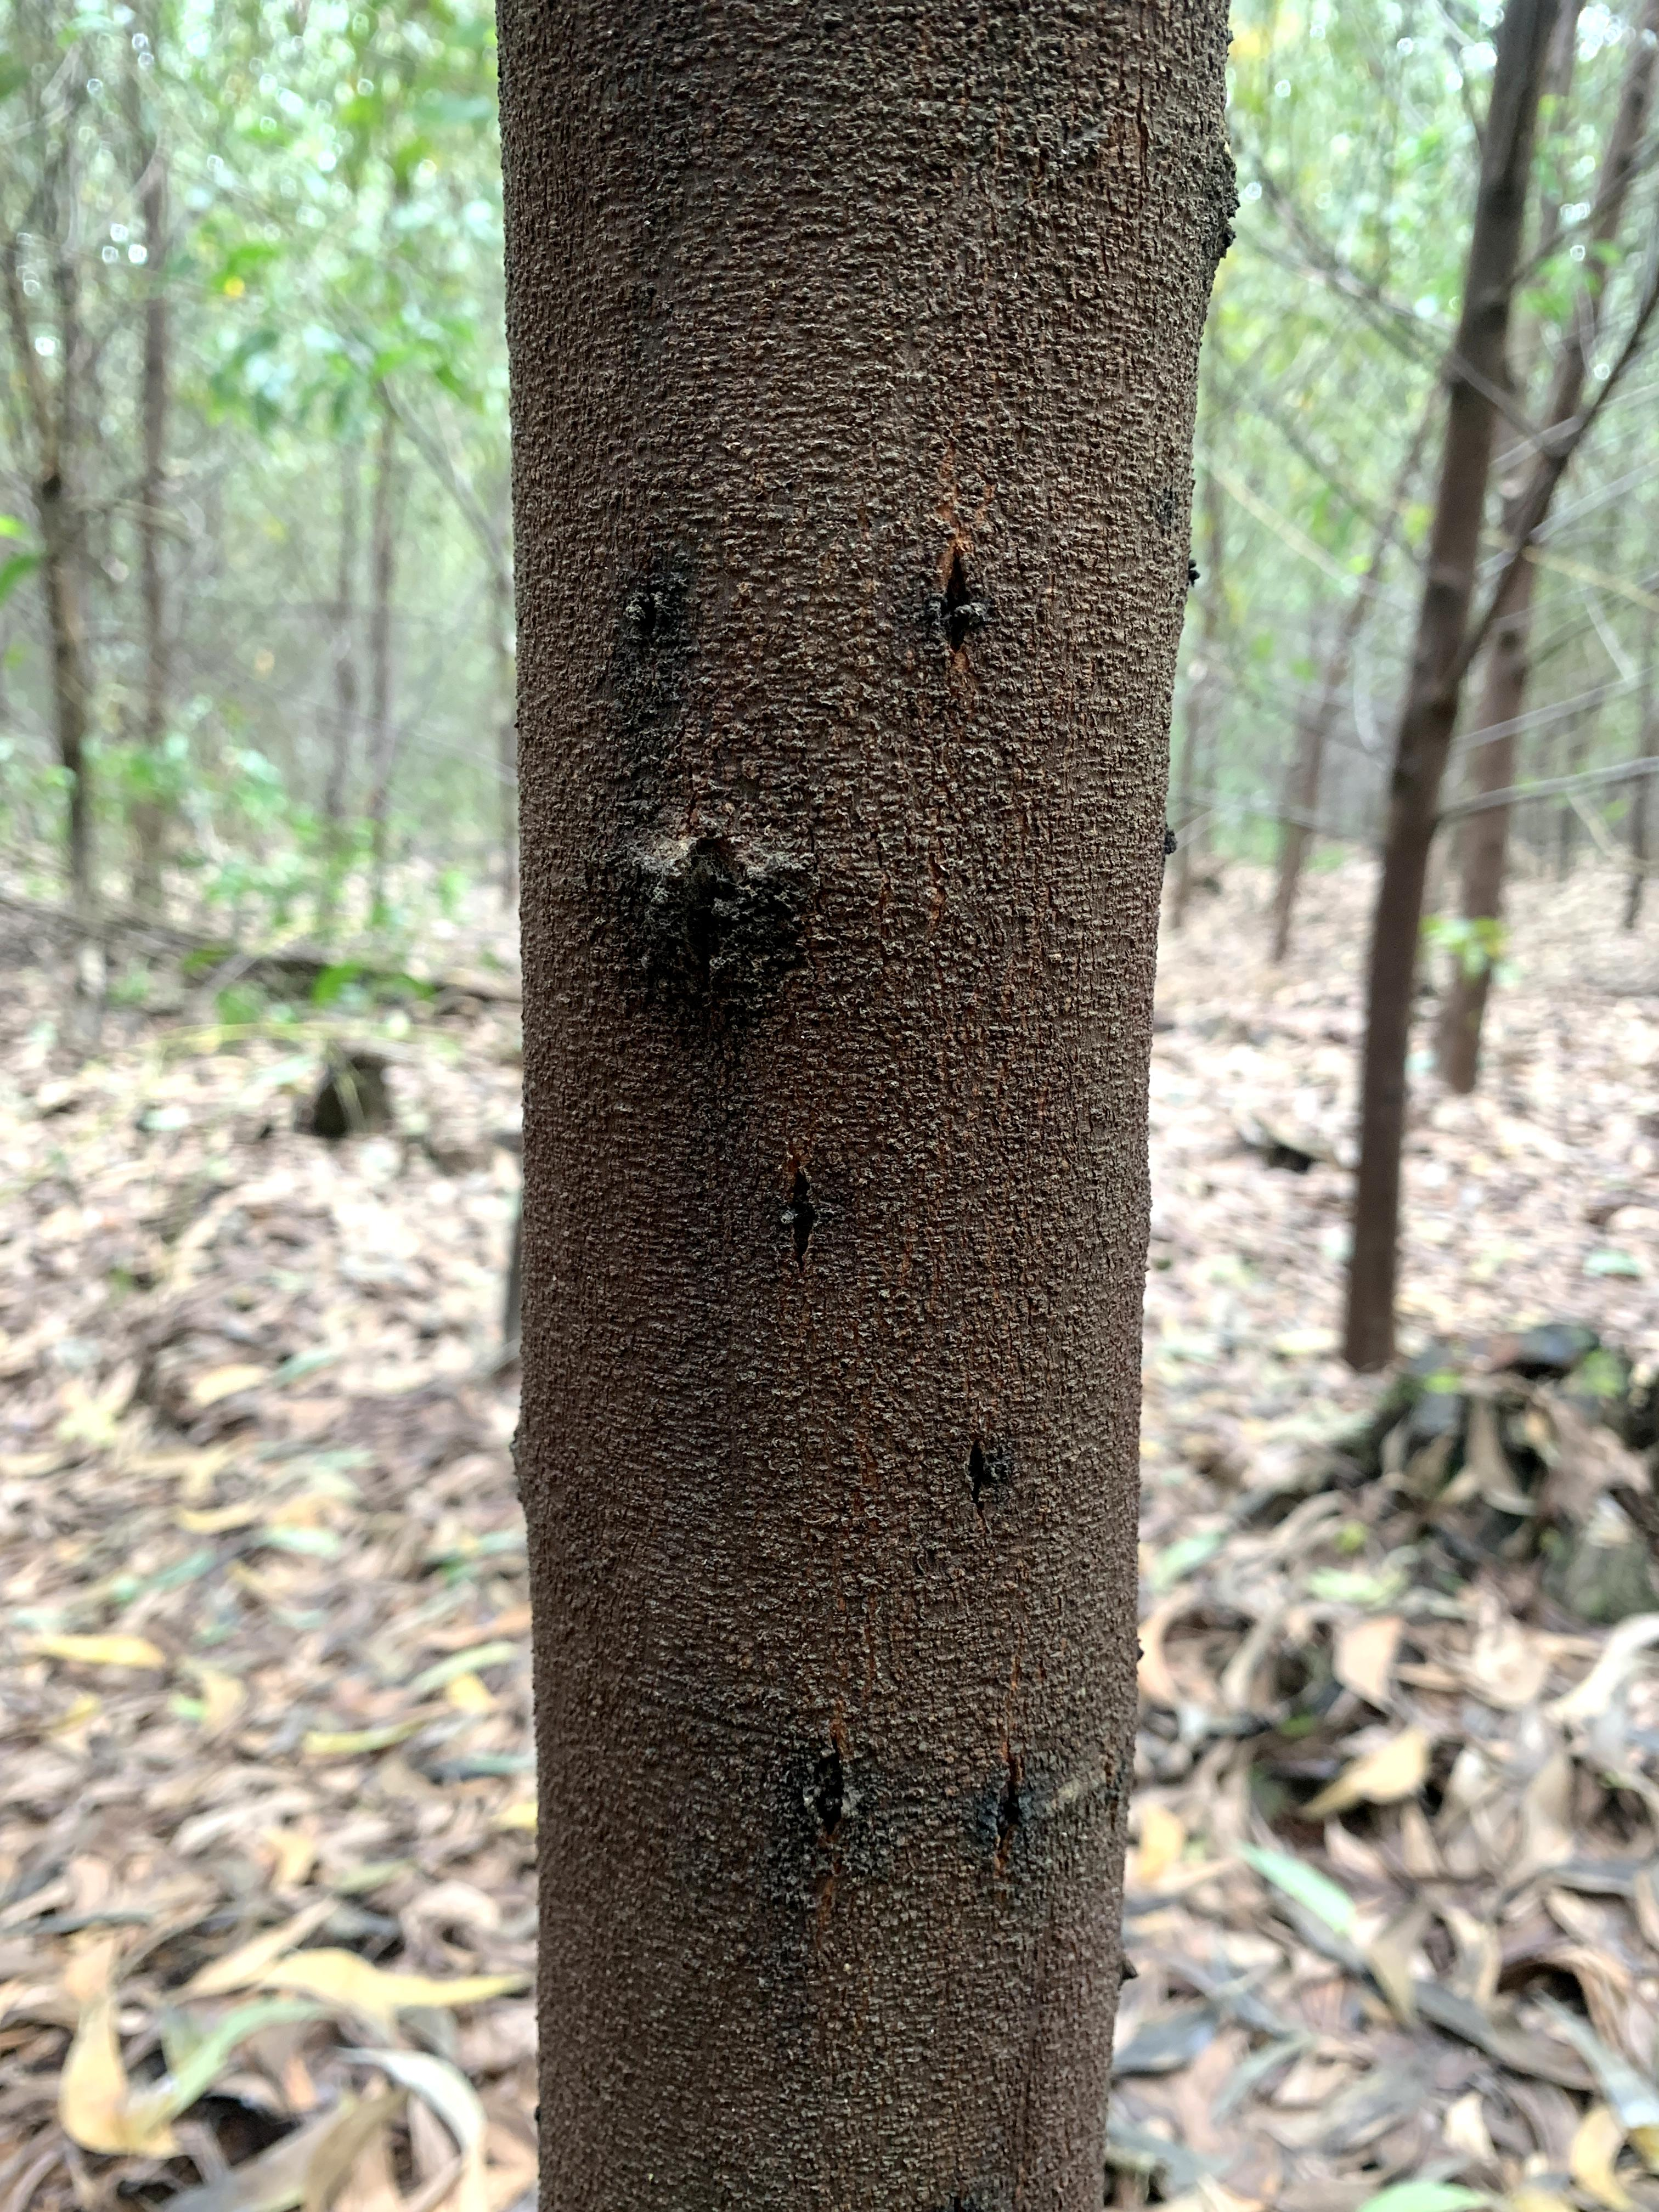Stem Borer: (598, 523, 701, 714), (915, 505, 1016, 678), (775, 1717, 877, 1890), (971, 1750, 1051, 1892), (762, 1151, 836, 1296), (948, 1426, 1021, 1522)
